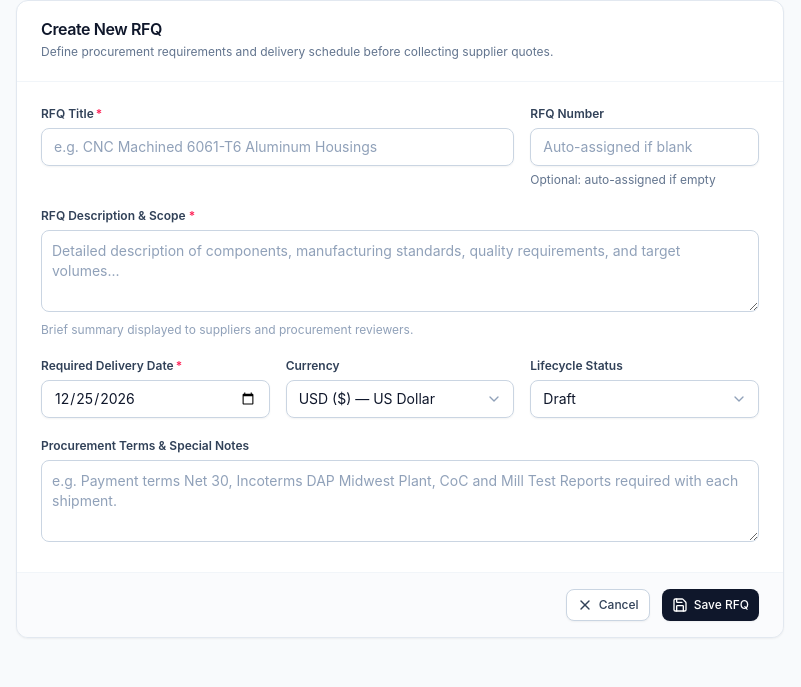
it: RfqForm Component and Form Validation › validates RFQ number format if provided
Type "Valid Machined Enclosures" into the field labelled "RFQ Title*".
click(278, 147); type("Valid Machined Enclosures")  # box [41,128,514,166]
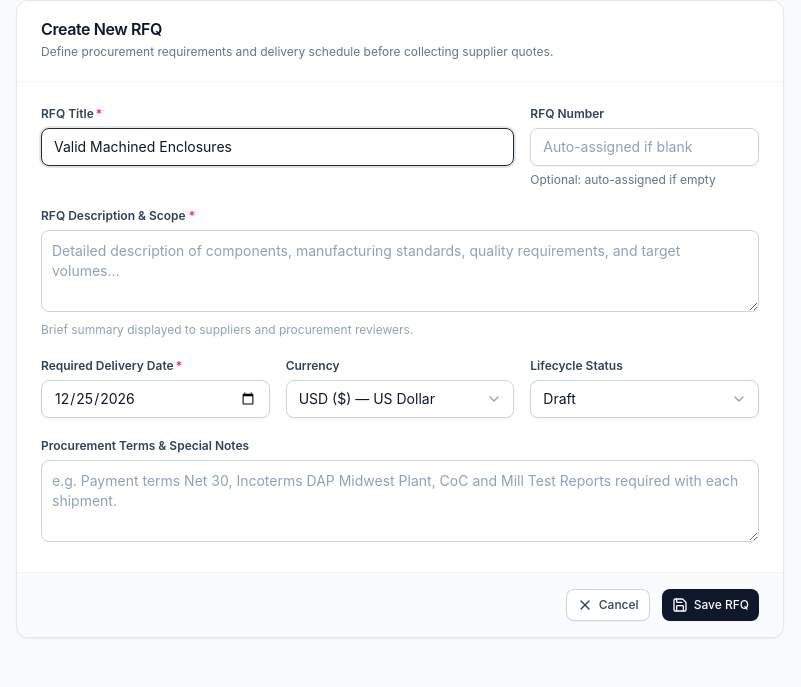
Type "INVALID-NUMBER-FORMAT" into the field labelled "RFQ Number".
click(645, 147); type("INVALID-NUMBER-FORMAT")  # box [530,128,759,166]
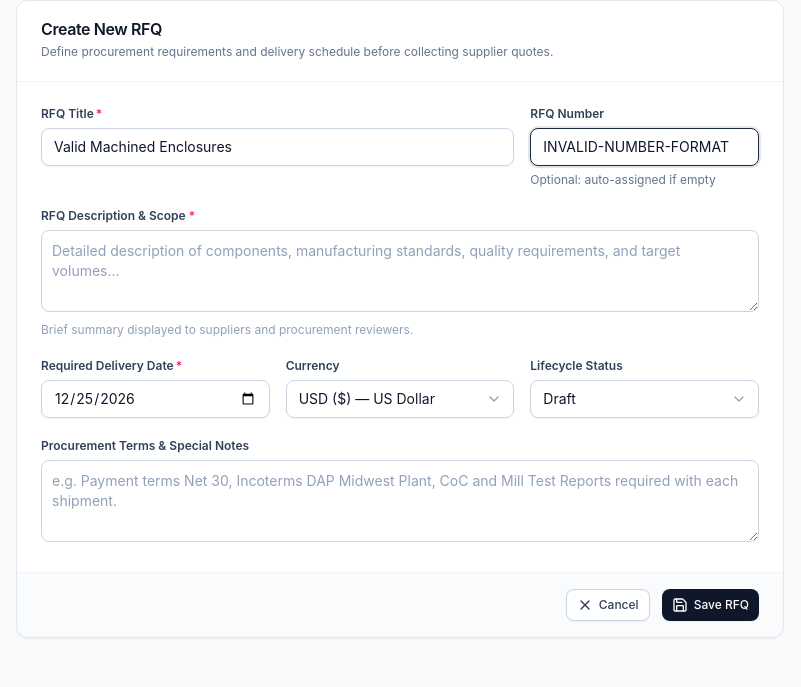
Click the button "Save RFQ".
click(710, 605)  # box [662,589,759,621]
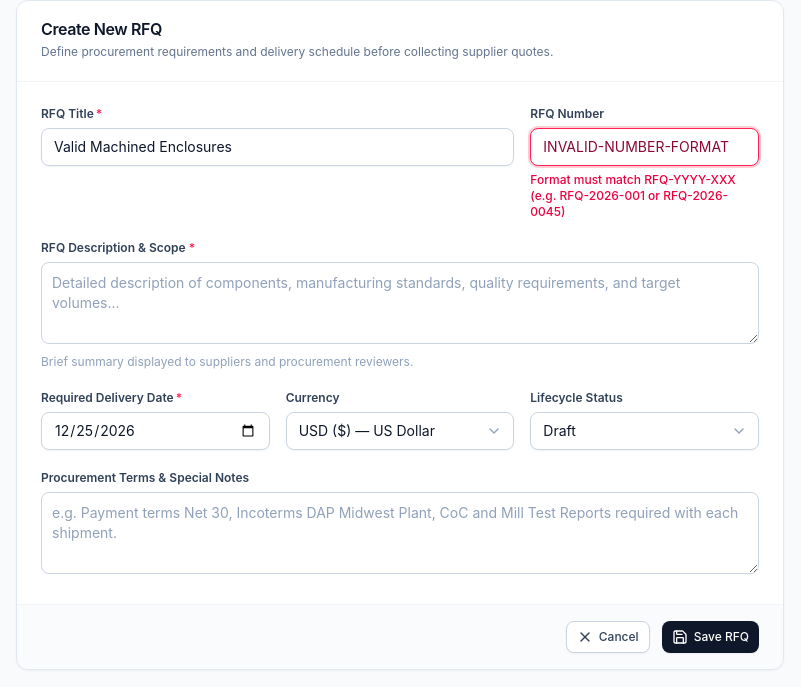
expect the text "Format must match RFQ-YYYY-XXX" is shown: met, box [530,172,736,219]
